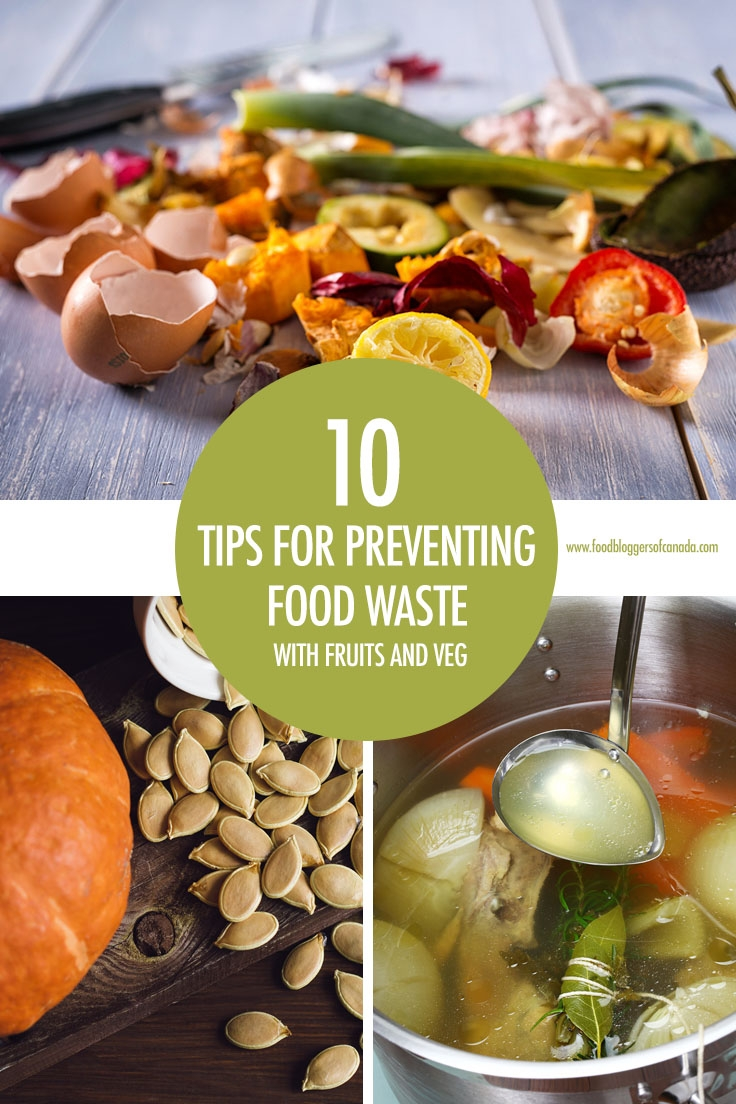kitchen_waste: (1, 637, 141, 1054), (219, 76, 599, 181), (307, 139, 666, 212), (54, 250, 227, 396), (595, 150, 736, 306), (538, 231, 711, 338), (347, 299, 511, 398), (11, 212, 161, 318), (300, 183, 461, 275), (596, 298, 716, 414), (7, 142, 122, 258), (196, 221, 317, 331), (138, 195, 246, 276), (115, 716, 187, 787), (221, 997, 298, 1062), (200, 906, 298, 956), (211, 804, 283, 868), (206, 857, 277, 920), (163, 770, 228, 838), (288, 1036, 362, 1093), (220, 697, 279, 766), (278, 925, 333, 995), (302, 855, 364, 917), (247, 751, 320, 800), (307, 795, 364, 857), (205, 753, 259, 817), (258, 830, 307, 900), (130, 781, 181, 847), (167, 728, 213, 792), (327, 964, 364, 1026), (328, 915, 370, 958)
metal: (488, 581, 675, 874)
